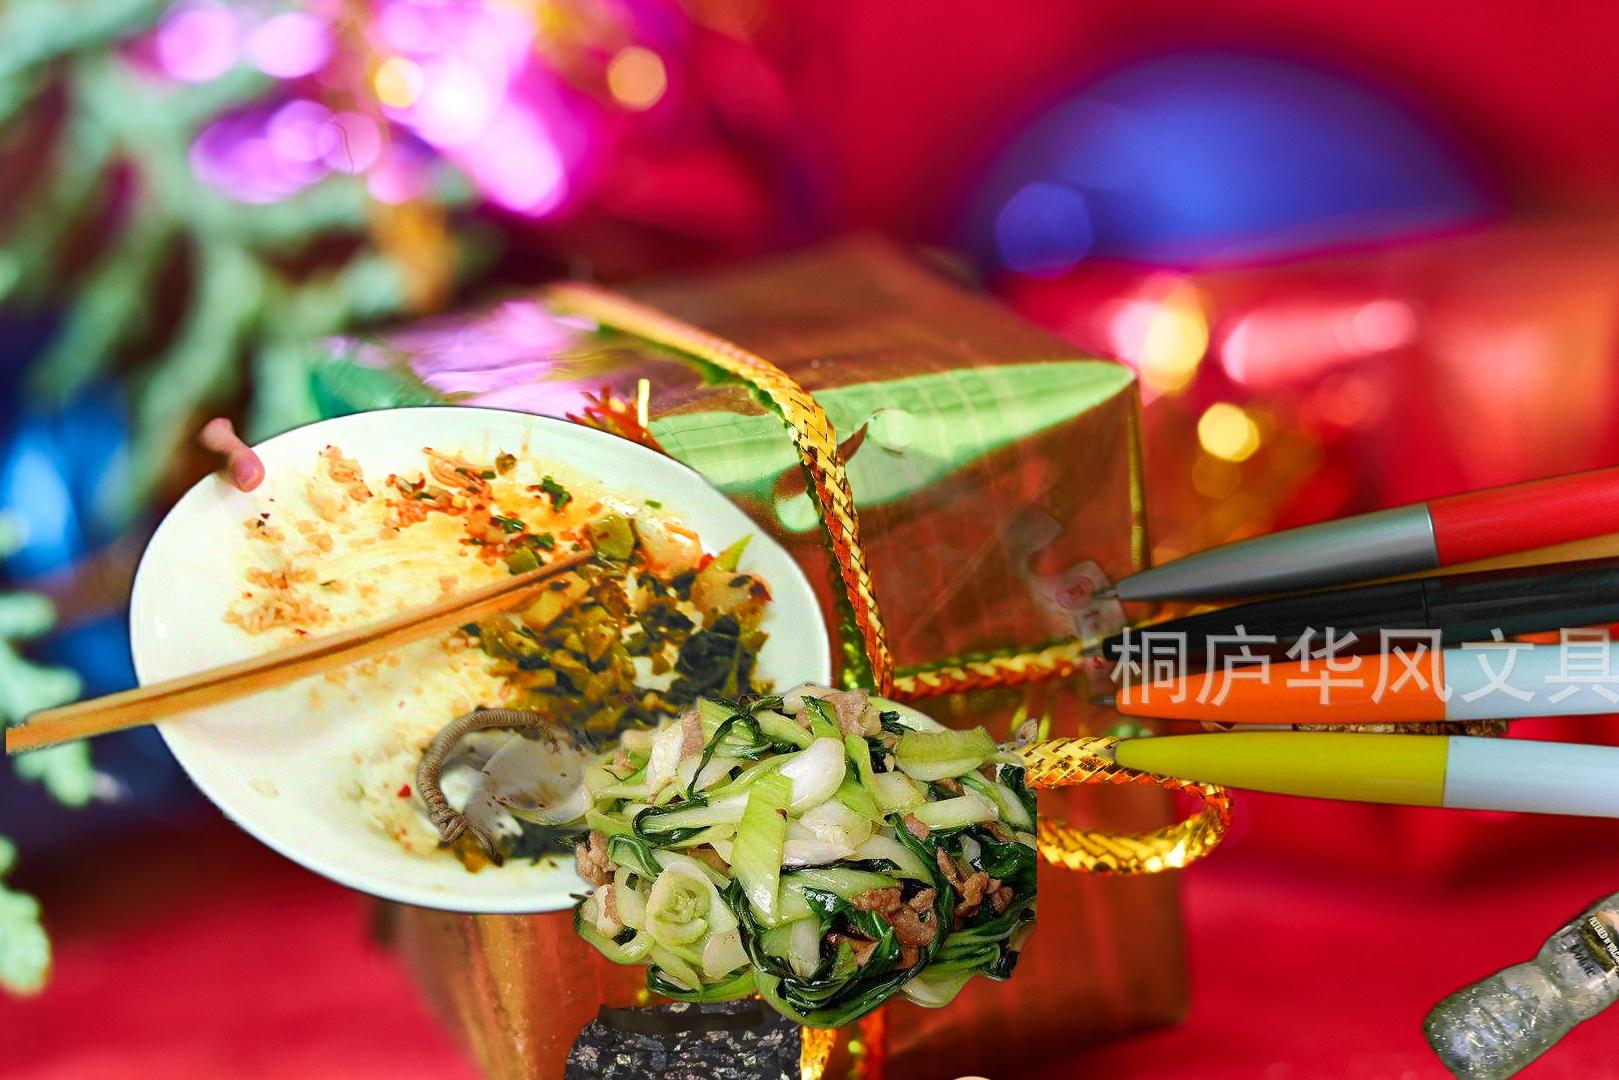biological: (6, 399, 1259, 915), (397, 653, 1037, 1039), (1192, 550, 1619, 791)
clothes: (559, 943, 904, 1080)
penholder: (1070, 406, 1619, 846)
plastic-bottles: (1416, 871, 1619, 1080)
trashbox-cardboard: (709, 1072, 1025, 1080)
